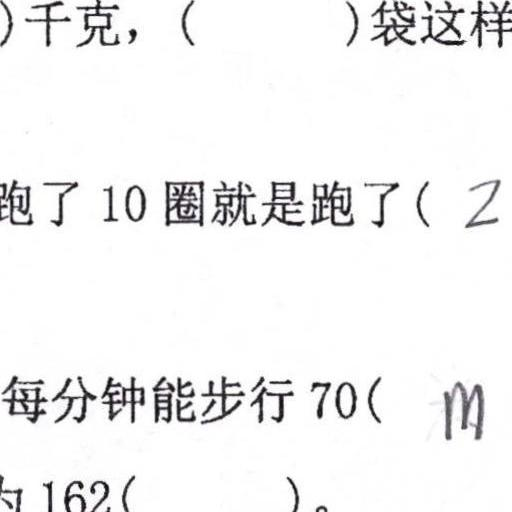ans: (436, 375, 488, 442), (458, 172, 503, 230)
